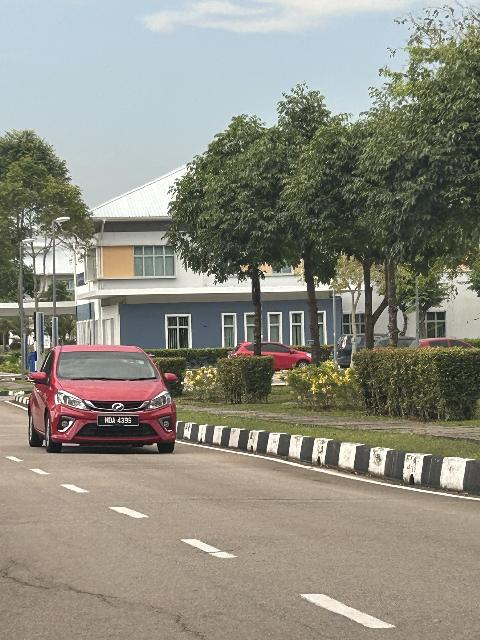License_Plate: (100, 417, 140, 430)
car: (26, 344, 179, 453)
